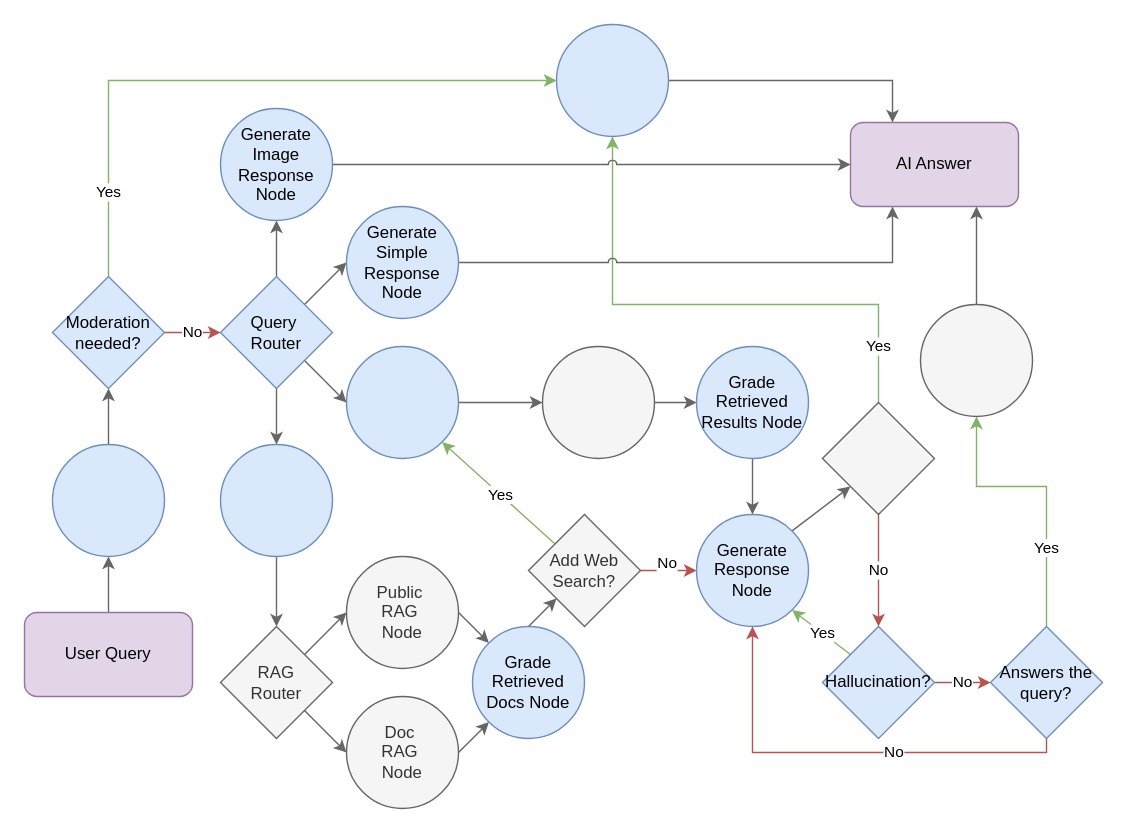
Image size: 1127x833. Some labels were removed from this diagram. Here are the shapes that lost their labels. From the top down, the centre of each, then its label:
(611,79): Refined Query Request Node
(975,359): Final Answer
(401,401): Re-write Query for Web Search Node
(597,401): Web Search Tool Node
(877,457): Too many tries?
(107,499): Image Parsing Node
(275,499): Re-write Query for RAG Node
